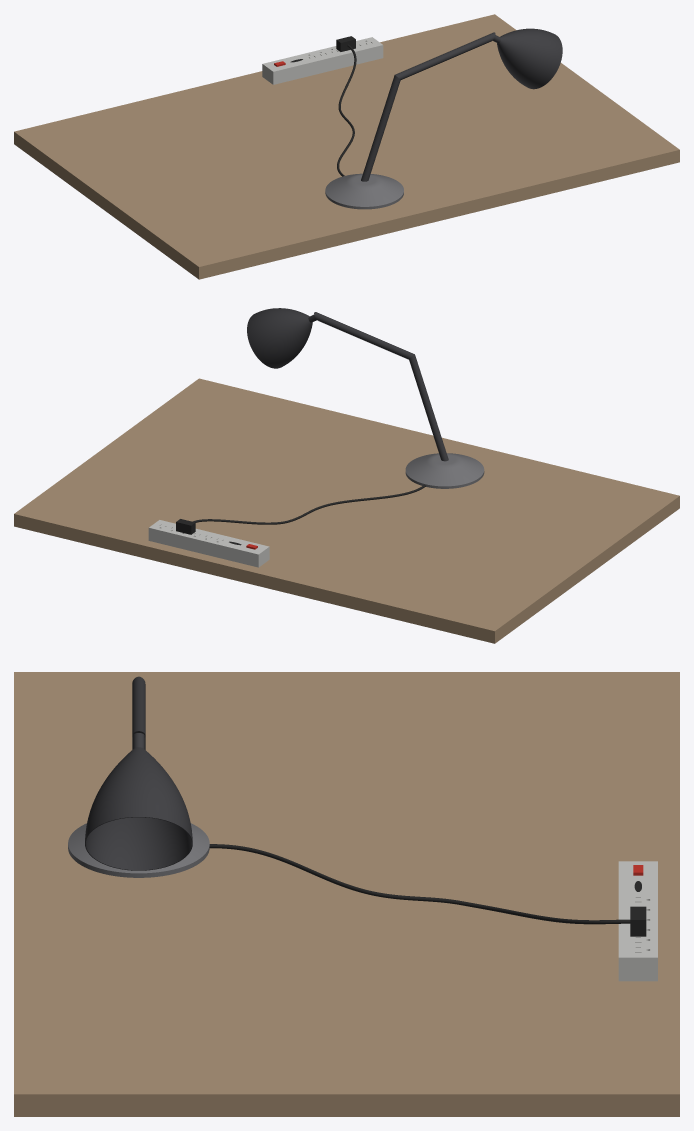
The model's file is desk.glb.
3 renders of one model, top to bottom at view 1: azimuth 30°, elevation 25°; view 2: azimuth 150°, elevation 25°; view 3: azimuth 270°, elevation 25°, orthographic. The views are drawn at different scales.
Visible parts, largest first — view 1: desk/top, lamp/shade, strip/body, lamp/base, lamp/arm_lower, lamp/arm_upper, lamp/cable; view 2: desk/top, lamp/shade, strip/body, lamp/base, lamp/arm_lower, lamp/arm_upper, lamp/cable; view 3: desk/top, lamp/shade, strip/body, lamp/base, lamp/cable, lamp/arm_upper.
Boxes of the visible parts, x1,y1,x2,y2 form: desk/top: [14, 14, 679, 279]; lamp/shade: [492, 28, 562, 89]; strip/body: [262, 37, 383, 84]; lamp/base: [325, 173, 403, 209]; lamp/arm_lower: [361, 75, 400, 181]; lamp/arm_upper: [395, 32, 495, 79]; lamp/cable: [337, 44, 356, 176]; desk/top: [14, 378, 679, 643]; lamp/shade: [247, 308, 316, 368]; strip/body: [148, 520, 269, 567]; lamp/base: [405, 453, 484, 488]; lamp/arm_lower: [409, 354, 448, 461]; lamp/arm_upper: [314, 312, 414, 359]; lamp/cable: [193, 484, 425, 524]; desk/top: [14, 672, 679, 1116]; lamp/shade: [85, 733, 192, 870]; strip/body: [618, 861, 657, 981]; lamp/base: [68, 823, 209, 877]; lamp/cable: [209, 844, 630, 924]; lamp/arm_upper: [132, 676, 145, 737].
Bounding box in the file's own units: 1.2 × 0.3363 × 0.8.
